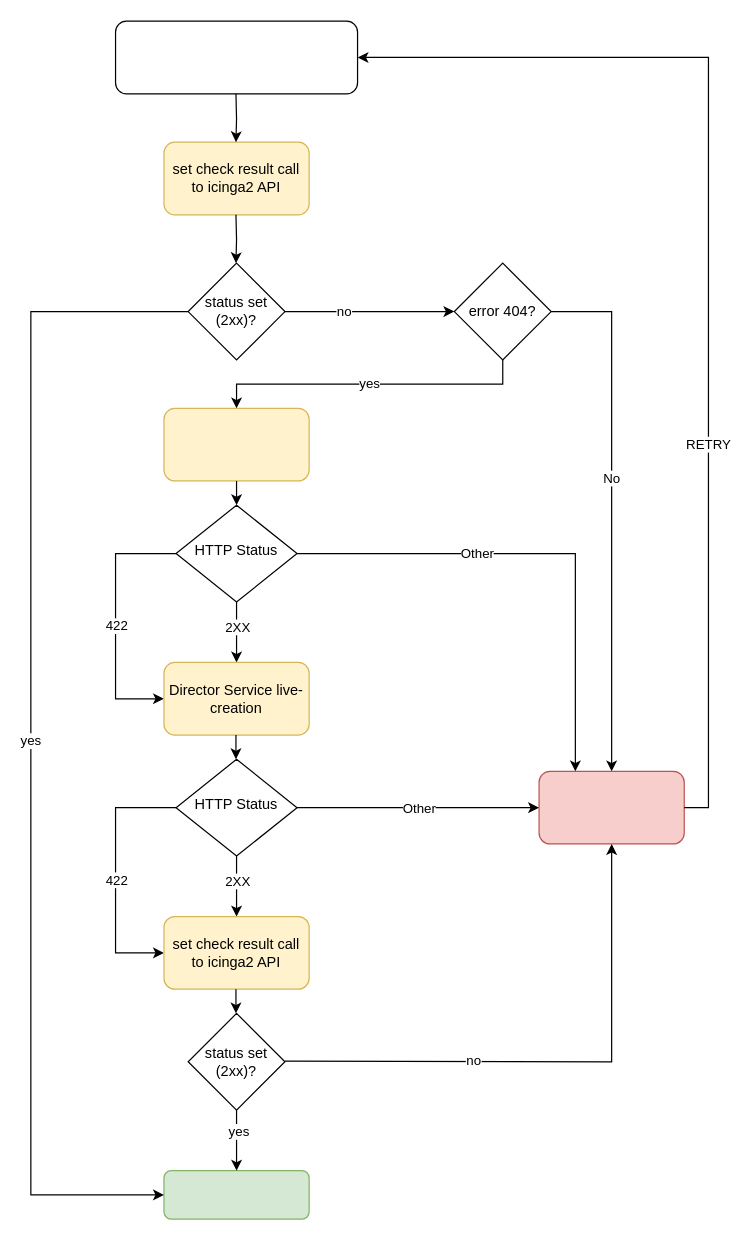
Some shapes in this 751 by 1240 pixel diagram are drawn without their labels. The centre of each missing label's shape, as x and y in pixels:
"Director Host live-creation" goes at point 236,444.
"Exit failure" goes at point 611,807.
"Ok" goes at point 236,1194.
"Tornado Monitoring Action is triggered (for SERVICE)" goes at point 236,57.
